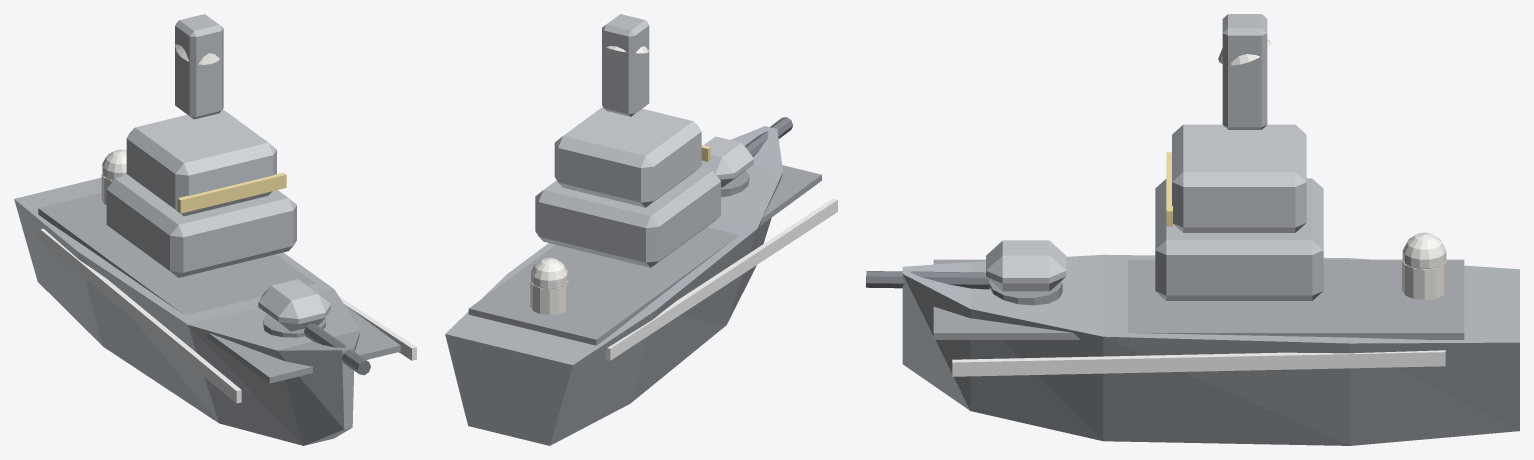
File: corvette.glb
3 renders of one model, left to right at view 1: azimuth 30°, elevation 25°; view 2: azimuth 150°, elevation 25°; view 3: azimuth 270°, elevation 25°, orthographic. The views are drawn at different scales.
Parts seen in each view (by area): view 1: main, turret; view 2: main, turret; view 3: main, turret.
Boxes of the visible parts, x1,y1,x2,y2 form: main: [14, 14, 416, 445]; turret: [258, 279, 370, 375]; main: [445, 14, 837, 445]; turret: [700, 117, 792, 196]; main: [902, 14, 1519, 445]; turret: [866, 240, 1066, 305].
Size of the model in its own units: 0.426 by 0.78 by 1.17.
